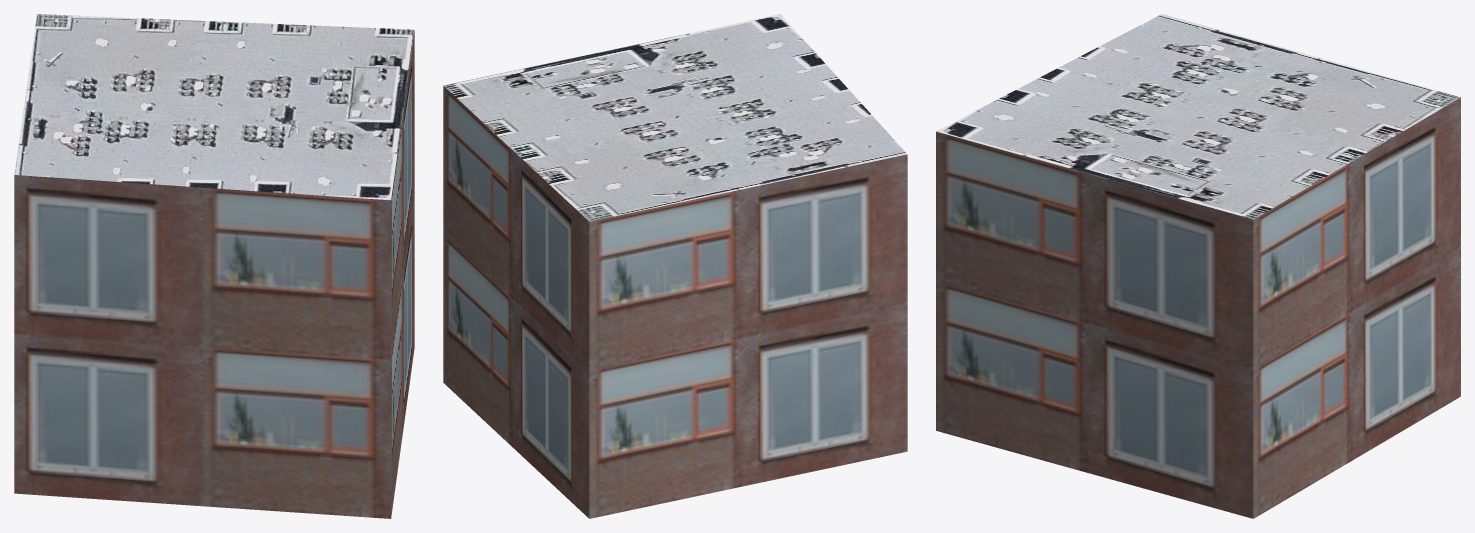
Rendered from ResTex__3674.fbx.
3 renders of one model, left to right at view 1: azimuth 30°, elevation 25°; view 2: azimuth 150°, elevation 25°; view 3: azimuth 270°, elevation 25°, orthographic. The views are drawn at different scales.
Parts seen in each view (by area): view 1: CityEngineMaterial_19_m, CityEngineMaterial_15_m; view 2: CityEngineMaterial_19_m, CityEngineMaterial_15_m; view 3: CityEngineMaterial_19_m, CityEngineMaterial_15_m.
Boxes of the visible parts, x1,y1,x2,y2 form: CityEngineMaterial_19_m: (14, 30, 414, 518); CityEngineMaterial_15_m: (14, 14, 414, 200); CityEngineMaterial_19_m: (443, 86, 907, 518); CityEngineMaterial_15_m: (443, 14, 907, 221); CityEngineMaterial_19_m: (936, 97, 1460, 518); CityEngineMaterial_15_m: (936, 14, 1460, 219).
Size of the model in its own units: 8.85 by 6 by 9.54.
2 materials, 2 textured.
